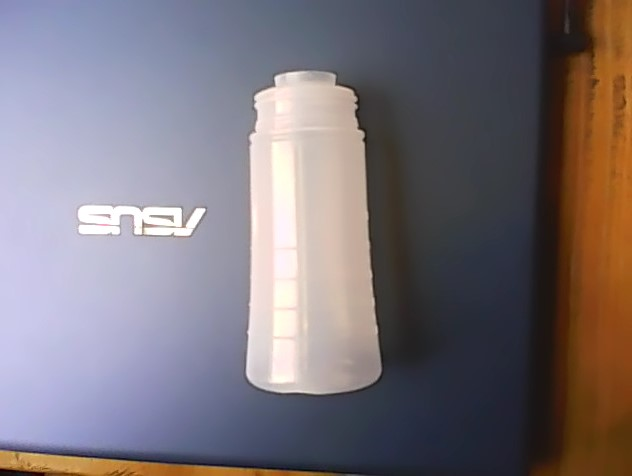Plastic: (248, 70, 382, 397)
